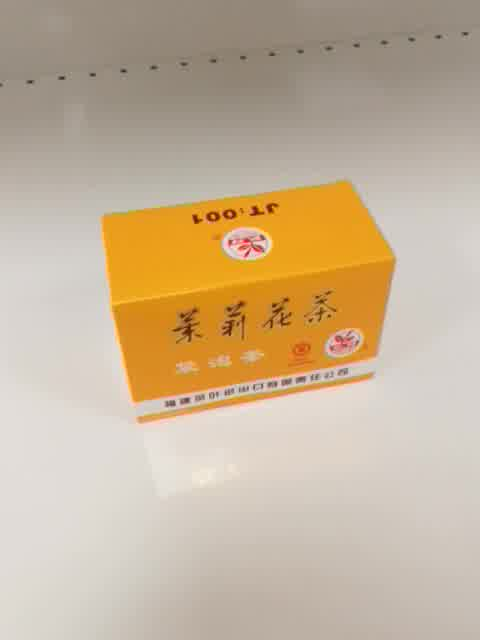jasminetea: (102, 179, 395, 426)
